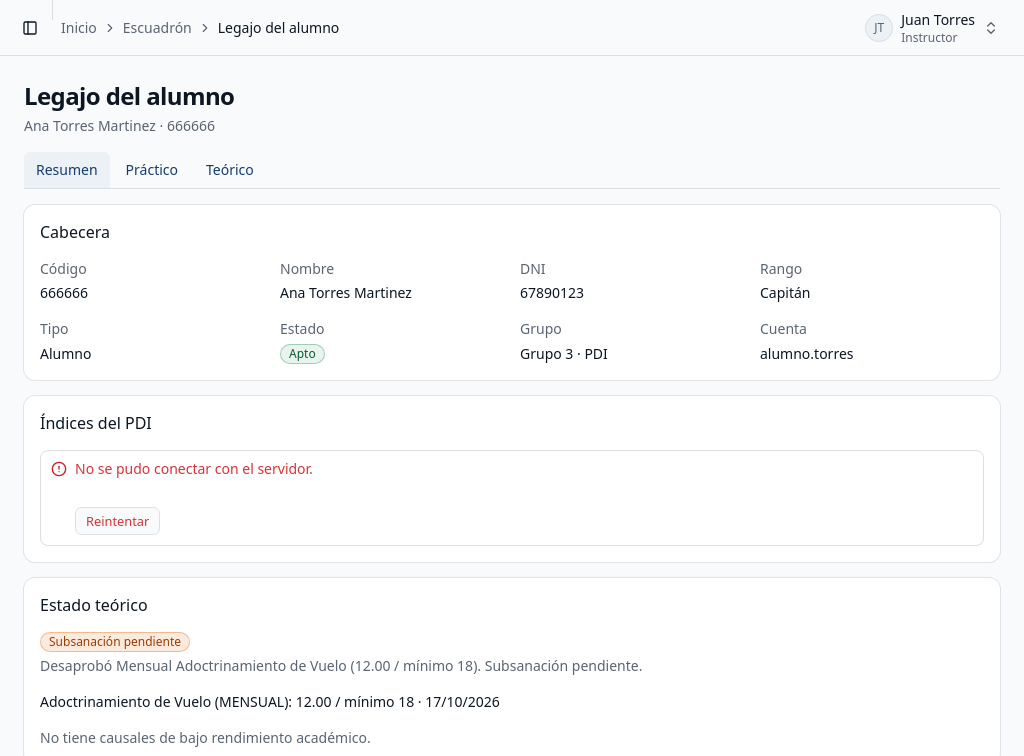
Scenario: Legajo: un panel que falla › CA-LEG-16 el panel que falla muestra su aviso con Reintentar y los demás siguen con sus datos
Expected: the heading "Legajo del alumno" is shown, x1=24 y1=80 x2=234 y2=112
Expected: the text "No se pudo conectar con el servidor." is shown, x1=75 y1=459 x2=313 y2=478
Click the button "Reintentar" at (118, 521), box x1=75 y1=507 x2=160 y2=535
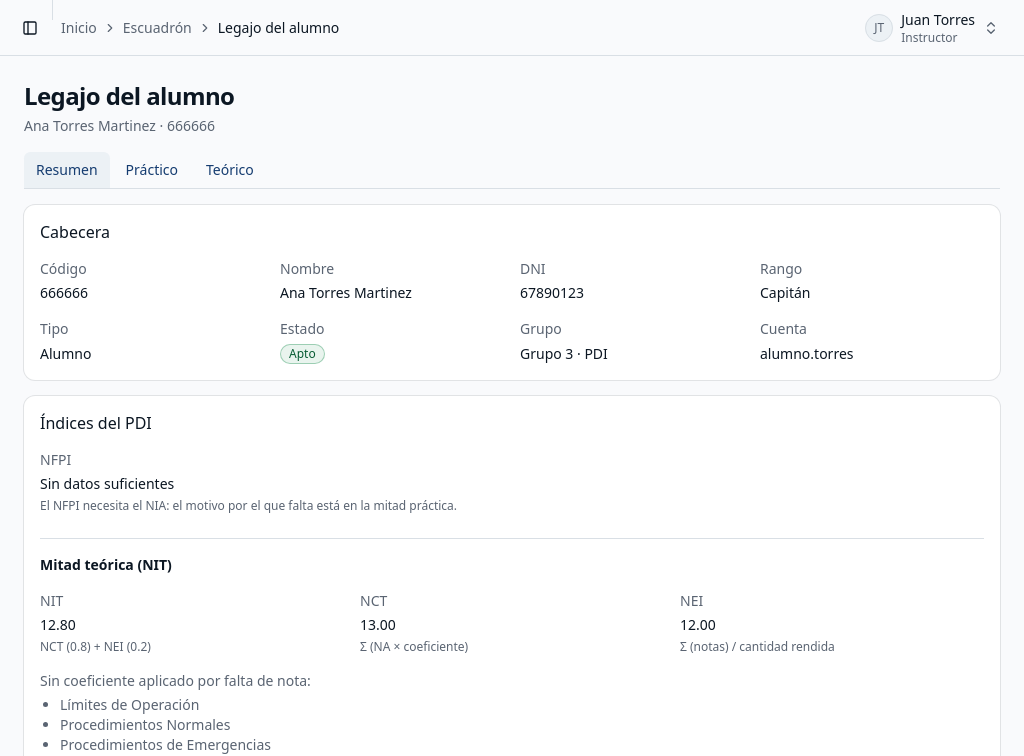
Now the text "12.80" is shown, box x1=40 y1=615 x2=76 y2=634
